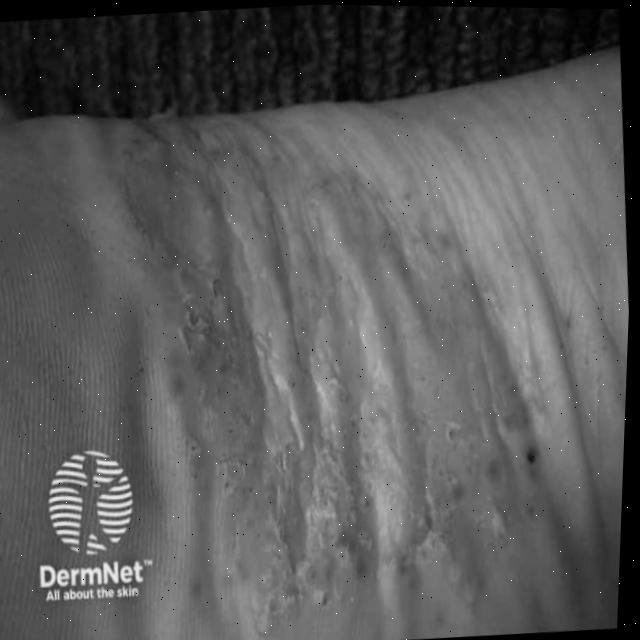Eczema: (74, 147, 515, 555)
